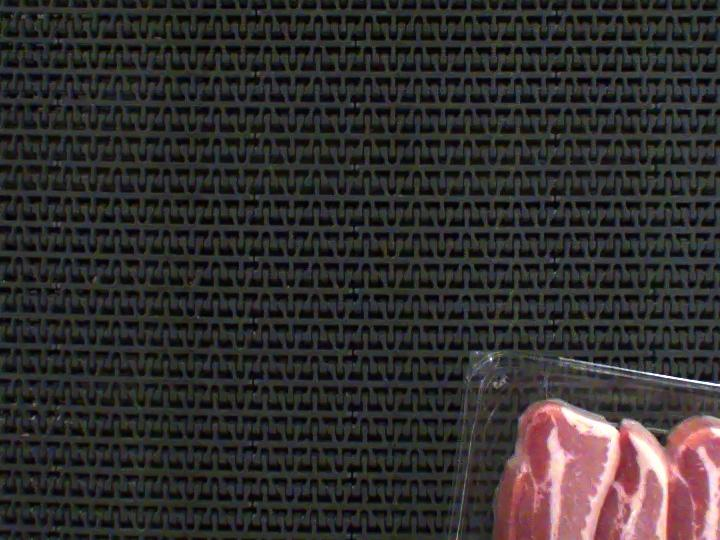packaging-error: (537, 362, 562, 402)
